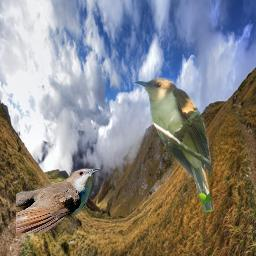Cuckoo: (130, 76, 217, 219), (16, 168, 101, 233)
